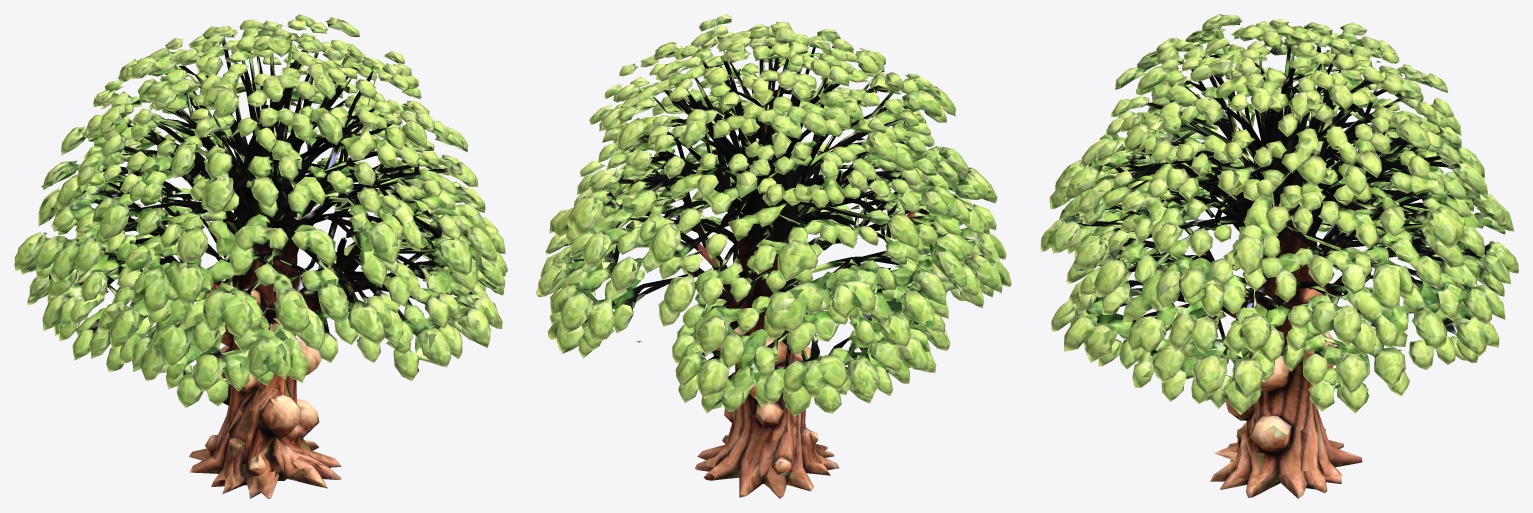
The model's file is t_elm.glb.
The picture shows the model from 3 angles, left to right: view 1: azimuth 30°, elevation 25°; view 2: azimuth 150°, elevation 25°; view 3: azimuth 270°, elevation 25°; orthographic projection.
Visible parts, largest first — view 1: t_elm; view 2: t_elm; view 3: t_elm.
Boxes of the visible parts, left/top/right/bottom form: t_elm: left=14, top=14, right=507, bottom=498; t_elm: left=536, top=14, right=1011, bottom=498; t_elm: left=1040, top=14, right=1518, bottom=498.
Bounding box in the file's own units: 10.89 × 11 × 10.79.
Materials: 1 (1 with a texture image).
